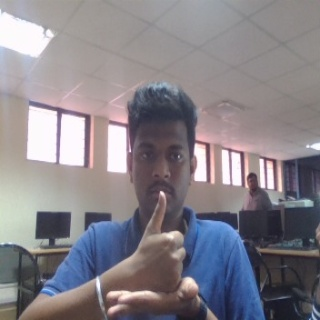Help: (101, 188, 199, 317)
